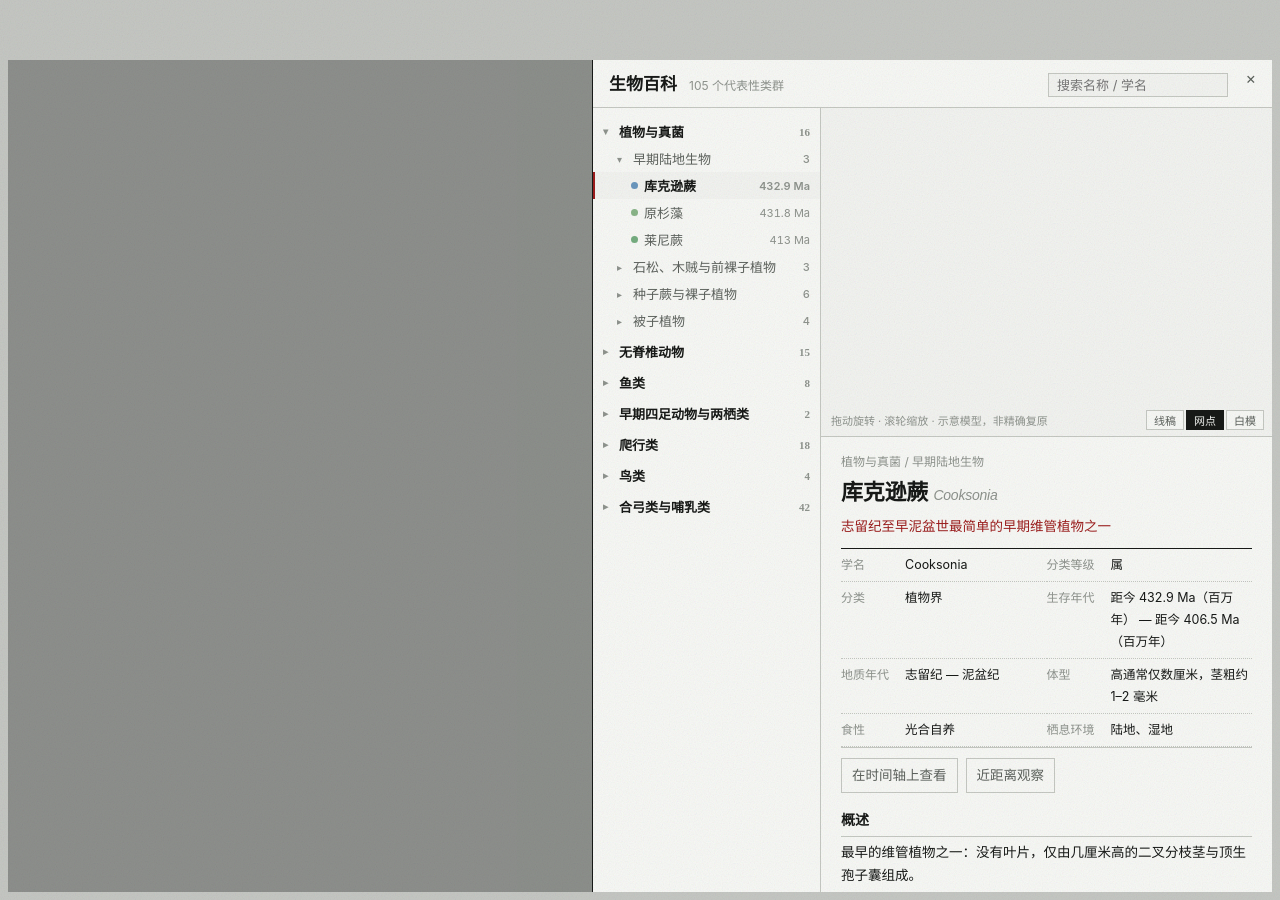
it: WikiDrawer › filters the tree by name or scientific name
The image size is (1280, 900).
Type "smilodon" into the search field with test id "wiki-search". click: (1138, 85)
box: [1048,73,1228,97]
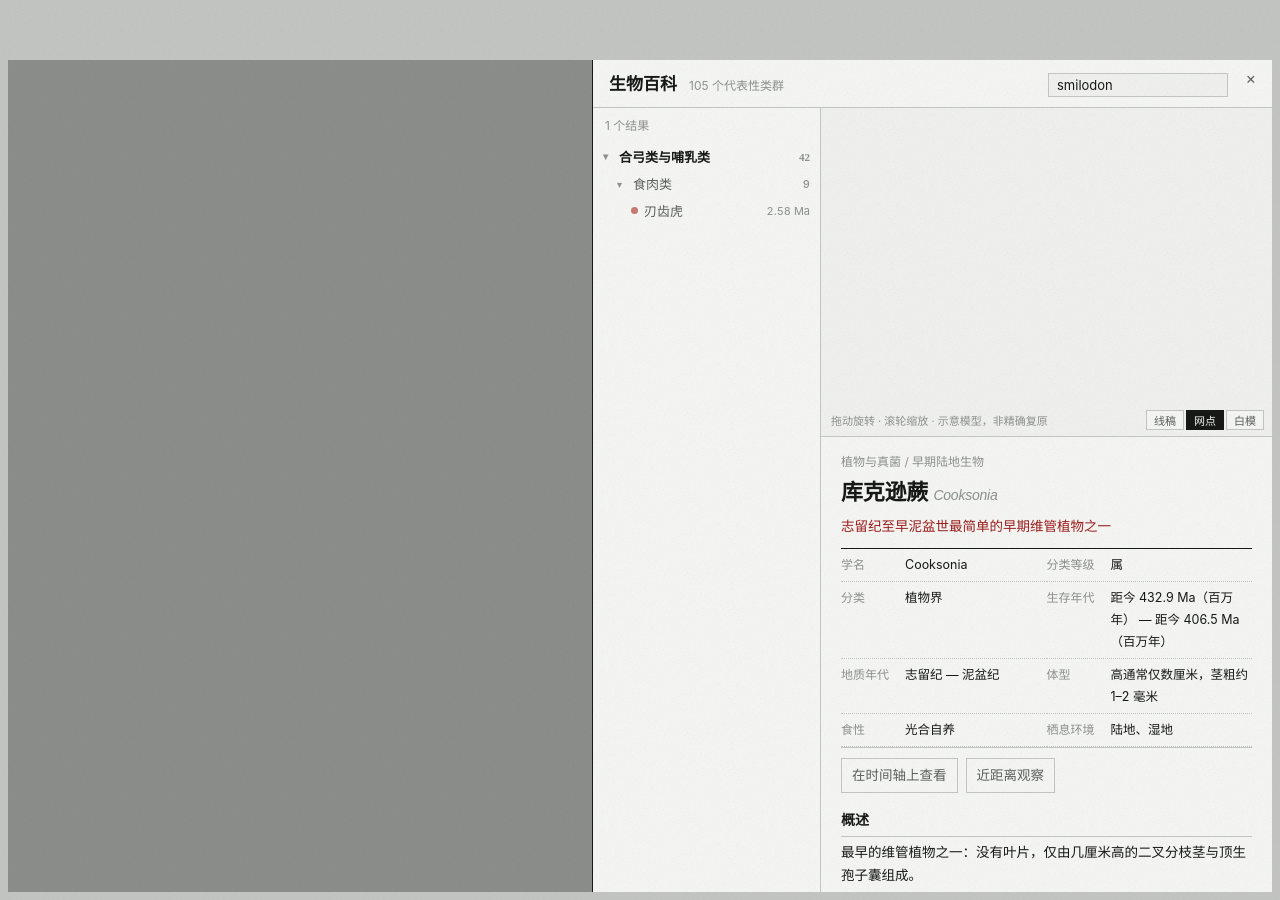
Expected: the button with test id "wiki-species-smilodon" is shown, [593,197,820,224]
Replace the text in the search field with test id "wiki-search" with "三叶虫". click: (1138, 85)
box: [1048,73,1228,97]
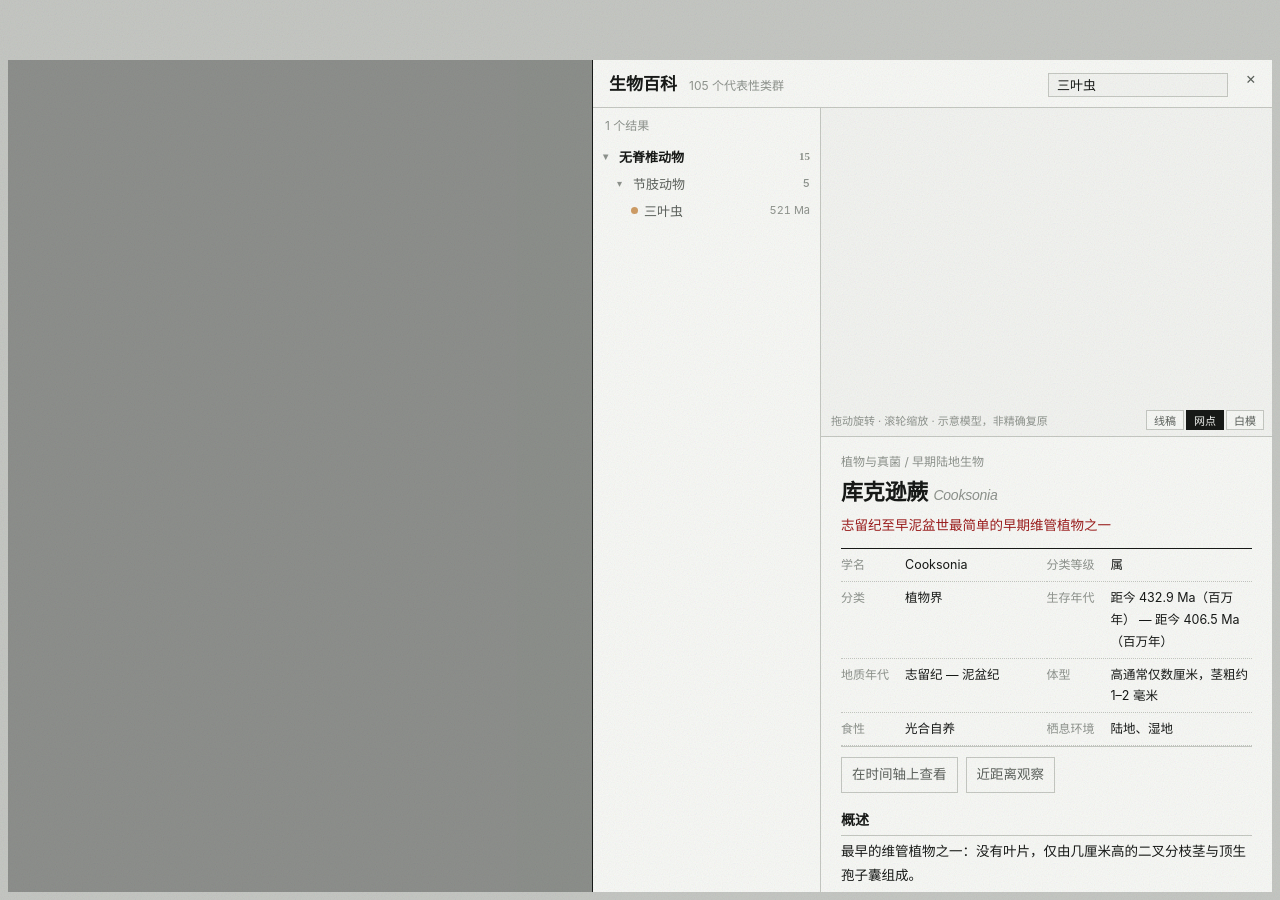
Expected: the button with test id "wiki-species-trilobita" is shown, [593,196,820,224]
